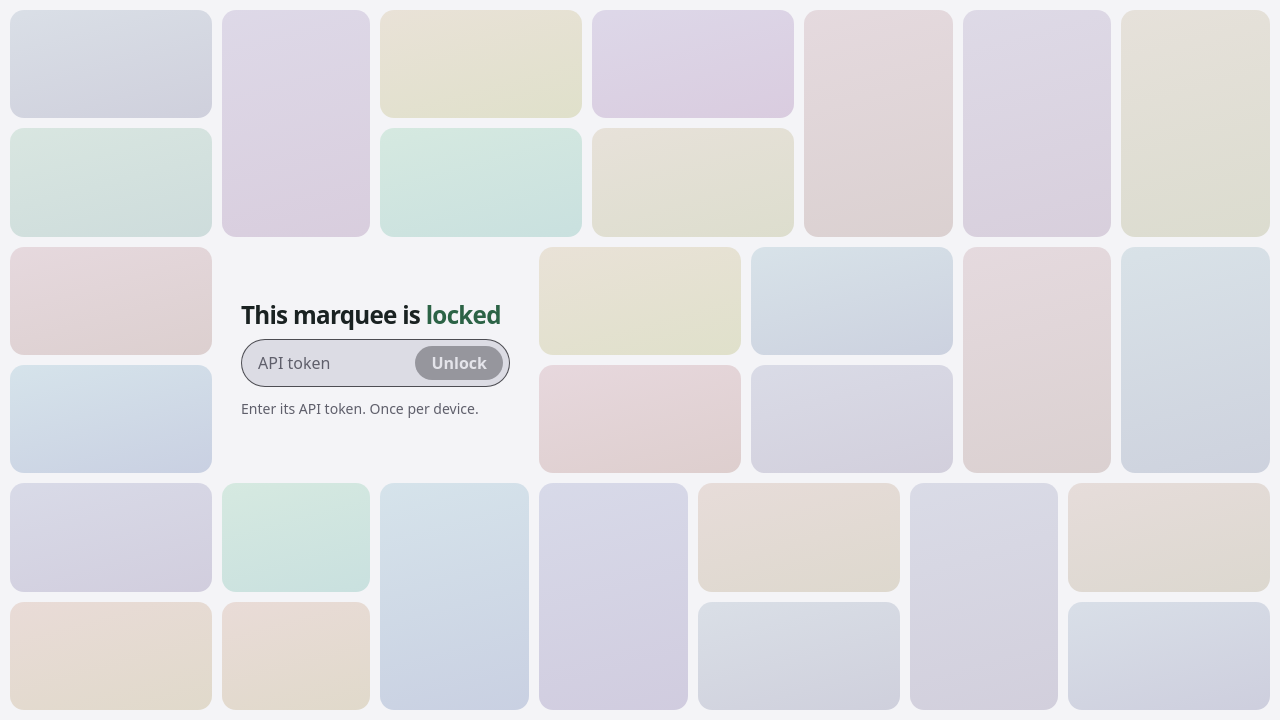
Test case: a token marquee refuses is forgotten and asked for again, with the reason
Later steps or results of the test are not shown.
Type "wrong" into the password field labelled "API token".
click(333, 363); type("wrong")  # box [258,340,408,386]
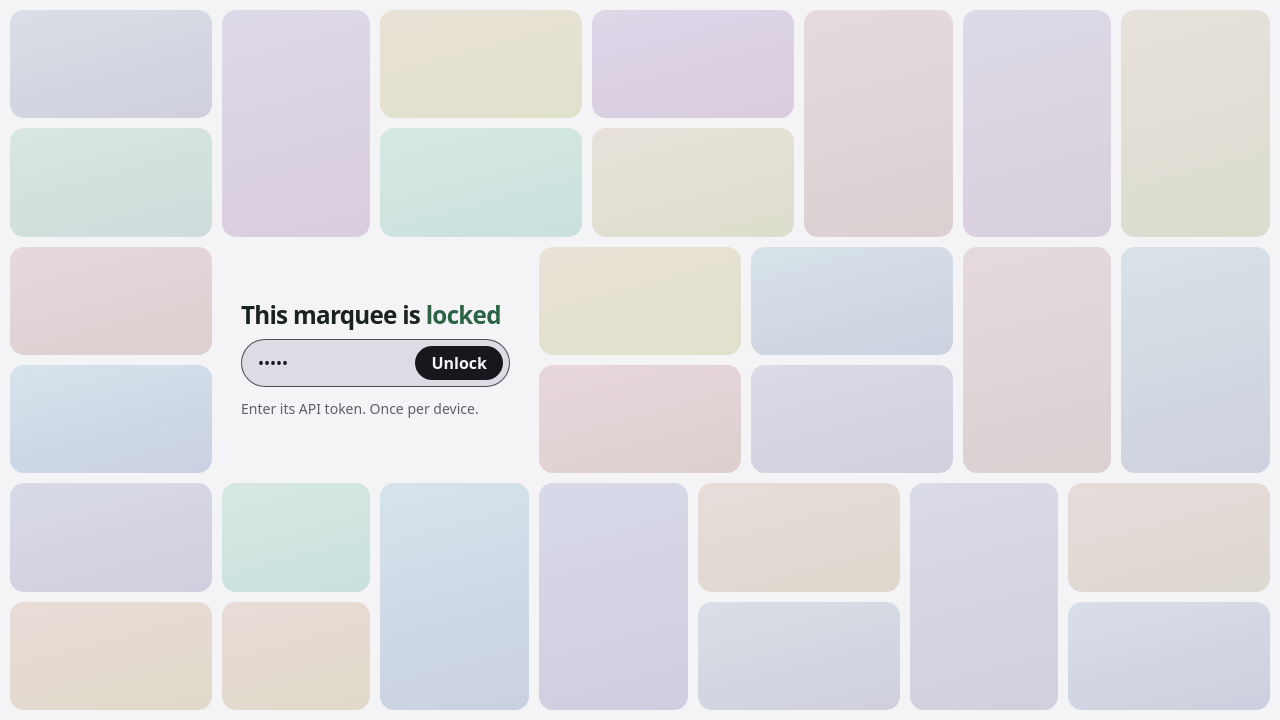
Click the button "Unlock".
click(459, 363)  # box [416,346,503,380]
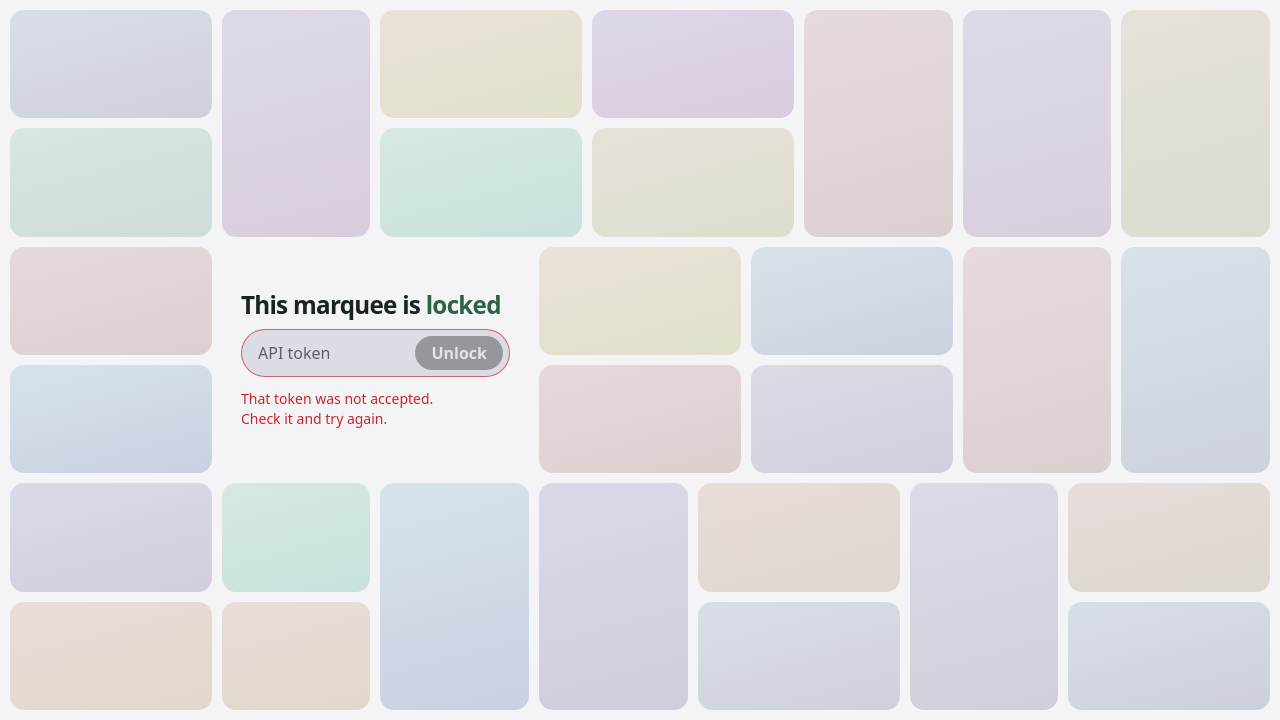
Expected: the password field labelled "API token" is empty, [258,330,408,376]
